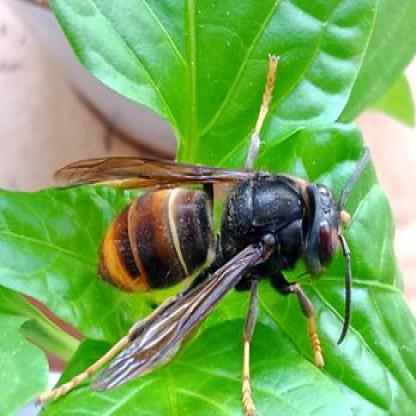Asian Hornet: (71, 100, 377, 403)
